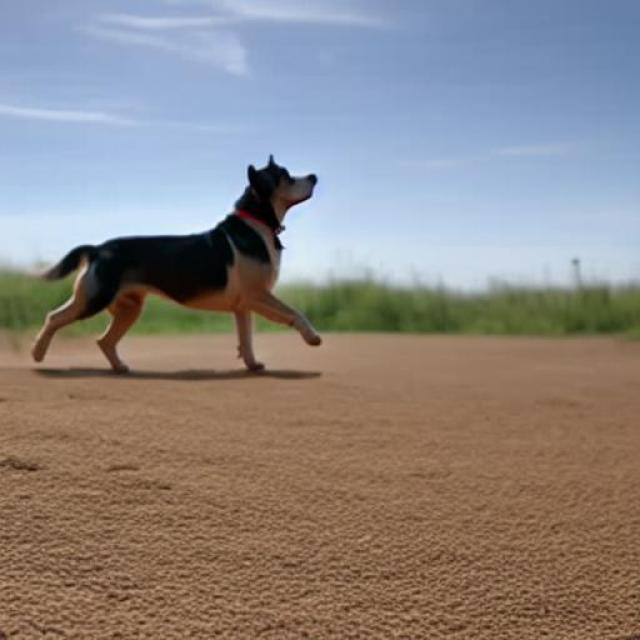Dog: (31, 154, 323, 376)
